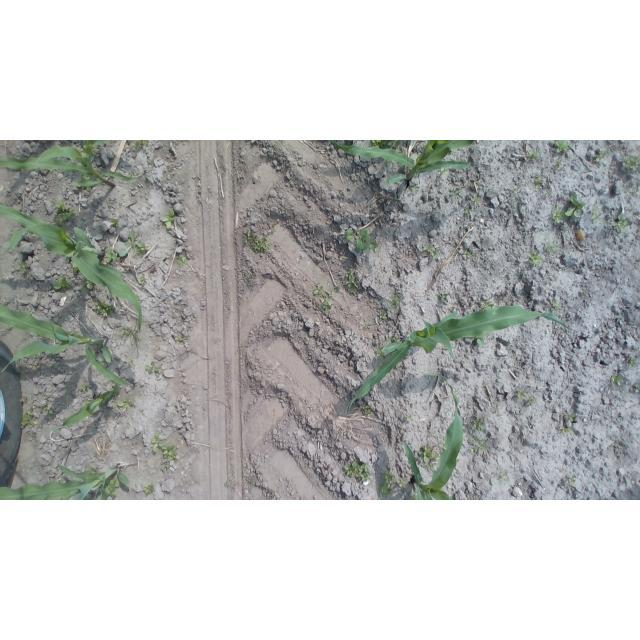Maize: (346, 305, 571, 415), (1, 204, 144, 333), (0, 304, 130, 387), (402, 373, 464, 500), (332, 140, 477, 186), (0, 141, 136, 188), (1, 464, 132, 500), (46, 383, 120, 434)
Weeds: (345, 227, 378, 251), (119, 230, 143, 257), (243, 229, 271, 252), (565, 193, 588, 218), (118, 323, 140, 349), (345, 461, 372, 482), (343, 267, 361, 296), (378, 469, 394, 496), (549, 204, 567, 227), (95, 297, 115, 317), (53, 208, 76, 224), (469, 436, 489, 453), (418, 445, 437, 462), (318, 290, 334, 310), (161, 208, 175, 230), (612, 215, 628, 234), (623, 155, 640, 171), (53, 275, 72, 289), (145, 361, 164, 375), (151, 430, 163, 452), (371, 140, 403, 148), (528, 251, 543, 267), (104, 247, 119, 263), (162, 444, 178, 459), (21, 410, 35, 427), (424, 244, 441, 258), (106, 479, 119, 497), (592, 204, 604, 223), (547, 240, 562, 255), (389, 294, 404, 309), (593, 148, 609, 162), (474, 418, 487, 433), (160, 458, 173, 473), (556, 140, 572, 152), (132, 141, 149, 152), (118, 398, 135, 409), (534, 173, 544, 191), (470, 193, 483, 206), (611, 372, 625, 384), (549, 301, 561, 314), (142, 483, 154, 495), (375, 347, 386, 360), (82, 145, 96, 155), (559, 425, 574, 434), (564, 477, 576, 488), (361, 404, 371, 417), (177, 254, 188, 265), (410, 181, 421, 192), (627, 356, 637, 368), (451, 186, 461, 198), (313, 283, 322, 296), (497, 471, 507, 482), (481, 301, 494, 309), (565, 411, 575, 421), (397, 477, 407, 487), (56, 200, 66, 210), (518, 389, 527, 400), (406, 412, 415, 423), (83, 281, 94, 290), (20, 262, 29, 273), (80, 382, 91, 391), (529, 150, 540, 159), (438, 293, 448, 302), (477, 336, 486, 346), (556, 157, 565, 167), (378, 312, 388, 321), (110, 218, 119, 227), (545, 187, 553, 197), (427, 461, 435, 471), (141, 273, 147, 286), (464, 249, 473, 257), (464, 208, 473, 216), (270, 225, 277, 235), (504, 187, 515, 193), (634, 383, 640, 394), (528, 396, 536, 404), (440, 168, 448, 176), (73, 264, 80, 273), (579, 290, 587, 297), (612, 441, 620, 448), (129, 359, 136, 367), (247, 272, 253, 280), (372, 183, 377, 192), (20, 398, 29, 403), (224, 481, 230, 488), (334, 286, 340, 292), (179, 336, 186, 341), (43, 405, 48, 411), (633, 188, 638, 194), (391, 339, 397, 344), (413, 493, 417, 500), (43, 397, 49, 400), (48, 410, 52, 414)
